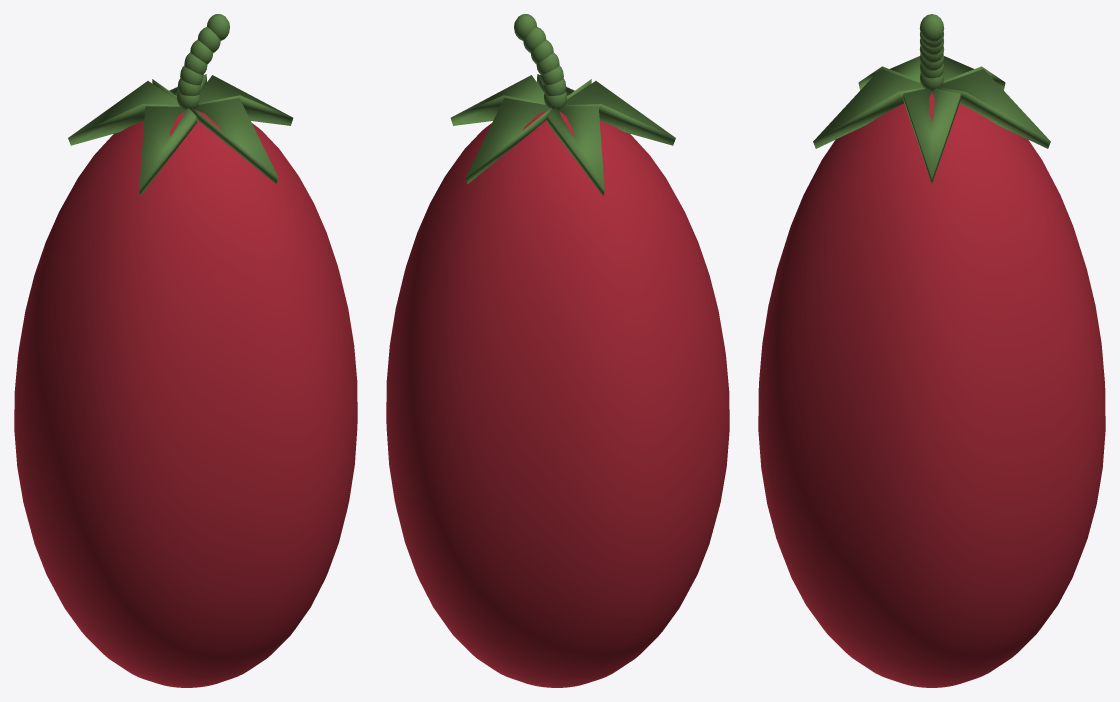
The model's file is grape.glb.
The picture shows the model from 3 angles, left to right: view 1: azimuth 30°, elevation 25°; view 2: azimuth 150°, elevation 25°; view 3: azimuth 270°, elevation 25°; orthographic projection. The views are drawn at different scales.
Visible parts, largest first — view 1: Grape Grape ruby waxed skin, Grape Botanical calyx; view 2: Grape Grape ruby waxed skin, Grape Botanical calyx; view 3: Grape Grape ruby waxed skin, Grape Botanical calyx.
Boxes of the visible parts, x1,y1,x2,y2 form: Grape Grape ruby waxed skin: (14,110,357,687); Grape Botanical calyx: (68,14,293,196); Grape Grape ruby waxed skin: (386,110,729,687); Grape Botanical calyx: (450,14,675,196); Grape Grape ruby waxed skin: (758,92,1105,687); Grape Botanical calyx: (813,14,1050,183).
Bounding box in the file's own units: 0.7013 × 1.47 × 0.6827.
